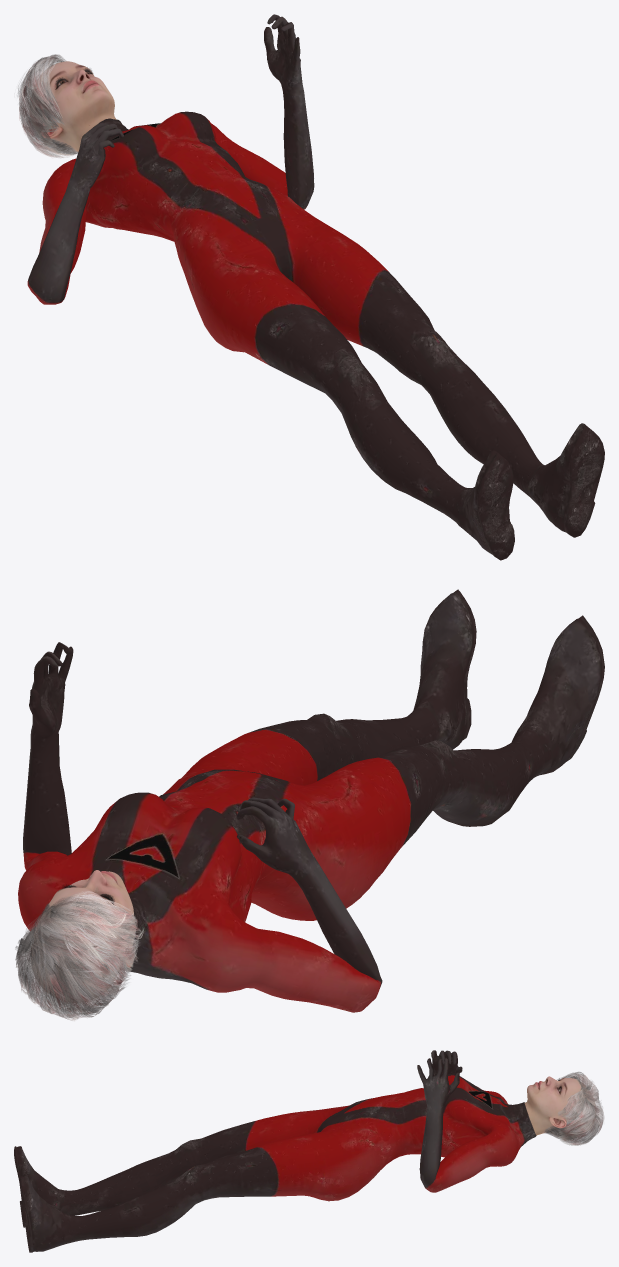
File: vacana-cuerpo-v1.glb
3 renders of one model, top to bottom at view 1: azimuth 30°, elevation 25°; view 2: azimuth 150°, elevation 25°; view 3: azimuth 270°, elevation 25°, orthographic. The views are drawn at different scales.
Parts seen in each view (by area): view 1: Ch47_Body1.001, Ch47_Face.001, Ch47_hair1.001; view 2: Ch47_Body1.001, Ch47_hair1.001, Ch47_Face.001; view 3: Ch47_Body1.001, Ch47_Face.001, Ch47_hair1.001.
Boxes of the visible parts, x1,y1,x2,y2 form: Ch47_Body1.001: (27,14,604,560); Ch47_Face.001: (30,61,116,152); Ch47_hair1.001: (17,54,78,158); Ch47_Body1.001: (18,589,604,1012); Ch47_hair1.001: (15,891,144,1020); Ch47_Face.001: (31,870,134,1000); Ch47_Body1.001: (14,1050,536,1252); Ch47_Face.001: (524,1076,595,1137); Ch47_hair1.001: (544,1072,604,1145).
Size of the model in its own units: 4.23 by 4.2 by 11.41.
Materials: 2 (2 with a texture image).
